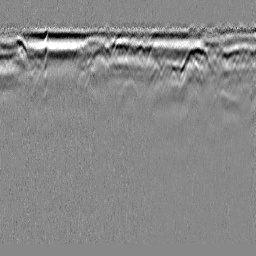cavity: (118, 77, 140, 101)
